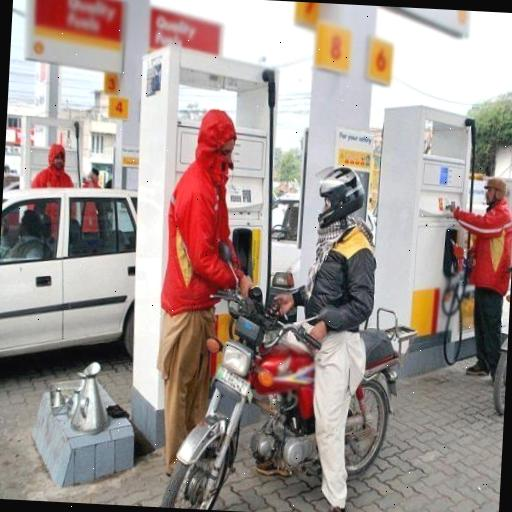helmet: (220, 133, 403, 504)
